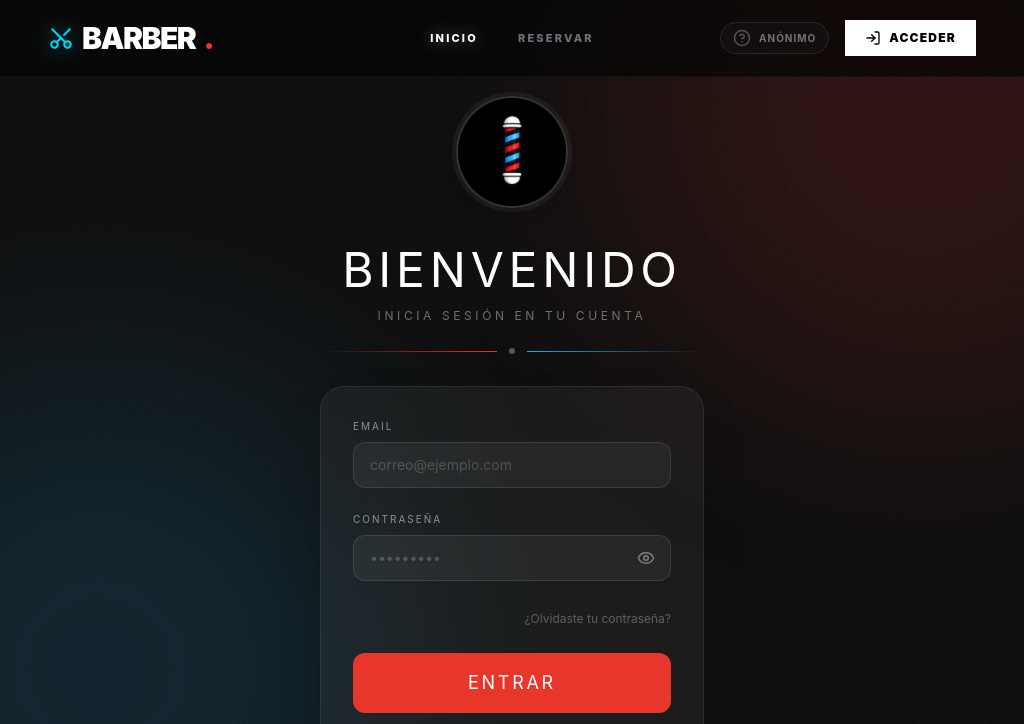
Test case: Flujo de login (Login.jsx) › login fallido: muestra un mensaje de error y no redirige
Expected: the button "ENTRAR" is shown, x1=353 y1=653 x2=671 y2=713
In the field with placeholder "correo@ejemplo.com": (512, 465) x1=353 y1=442 x2=671 y2=488, type "ana@test.com"
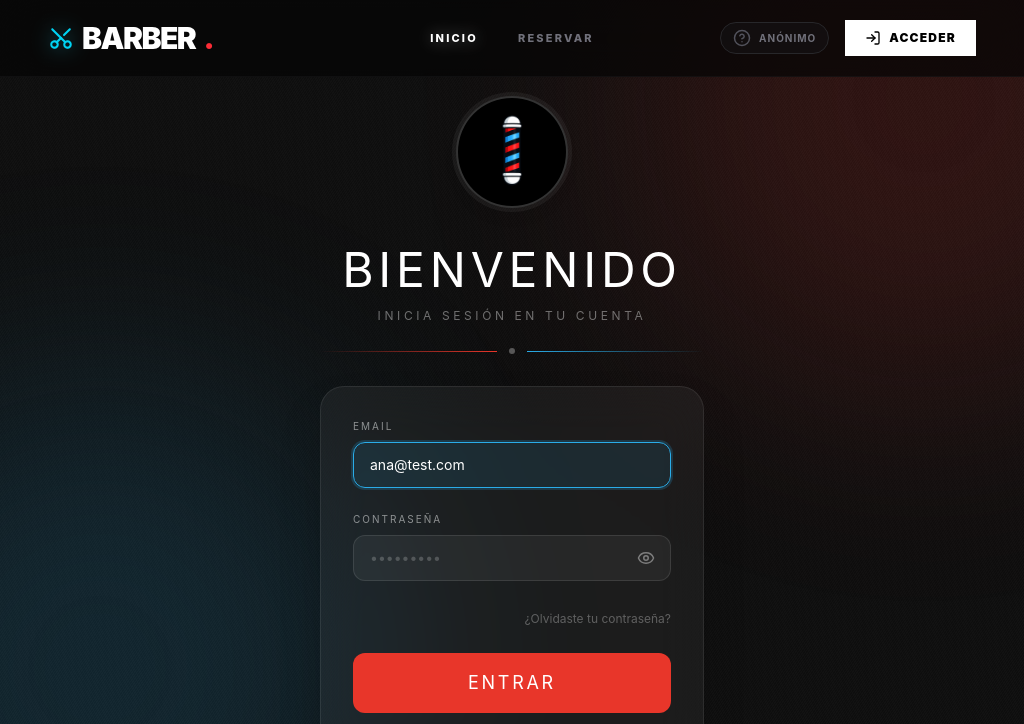
In the password field with placeholder "•••••••••": (512, 558) x1=353 y1=535 x2=671 y2=581, type "clave-incorrecta"
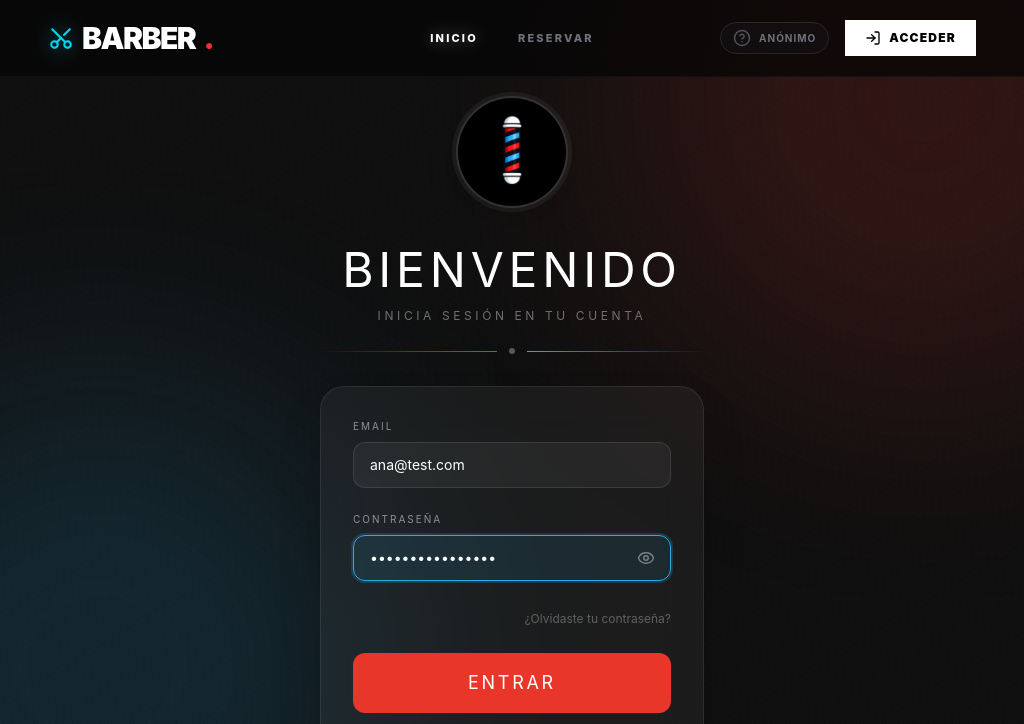
Click the button "ENTRAR": (512, 683) x1=353 y1=653 x2=671 y2=713
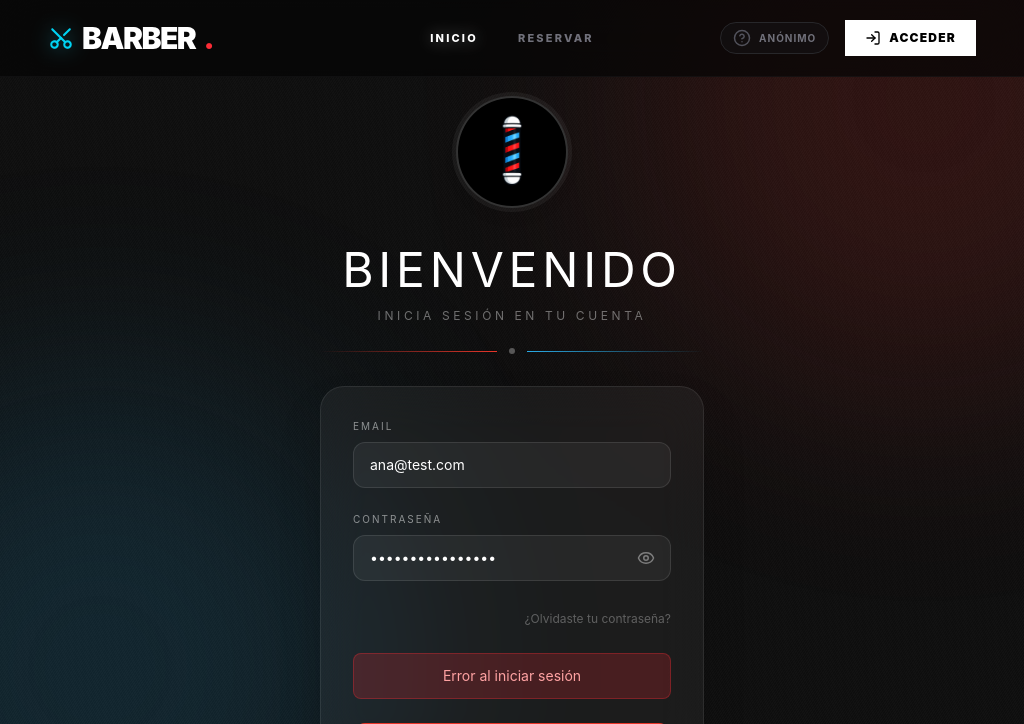
Now the text "Error al iniciar sesión" is shown, box x1=443 y1=667 x2=581 y2=684
